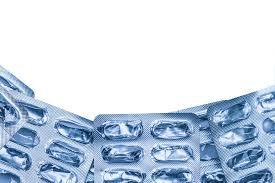pill_Strip: (0, 91, 93, 182), (94, 113, 199, 182), (208, 86, 274, 182), (0, 66, 34, 147), (0, 86, 26, 148), (177, 102, 215, 144), (0, 66, 34, 96)
